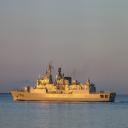Fragata: (10, 62, 118, 103)
